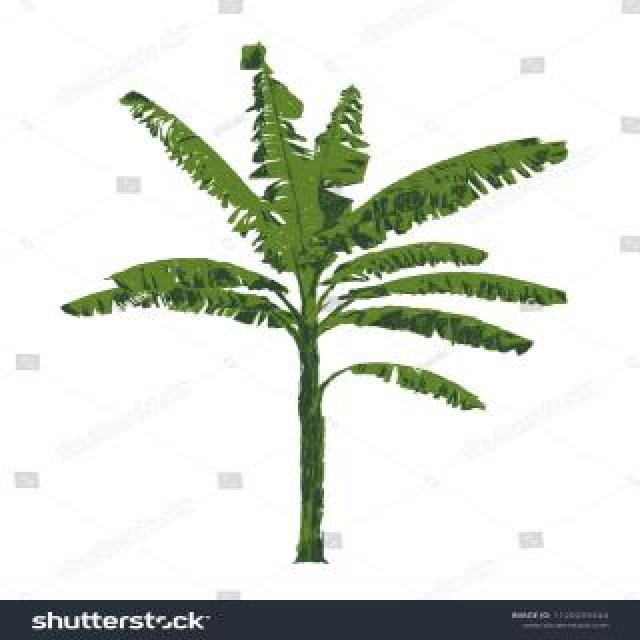Pisang: (84, 51, 556, 559)
